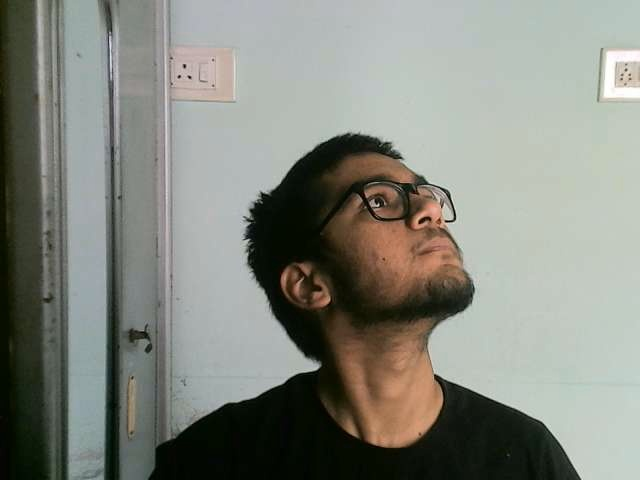face: (324, 151, 475, 318)
